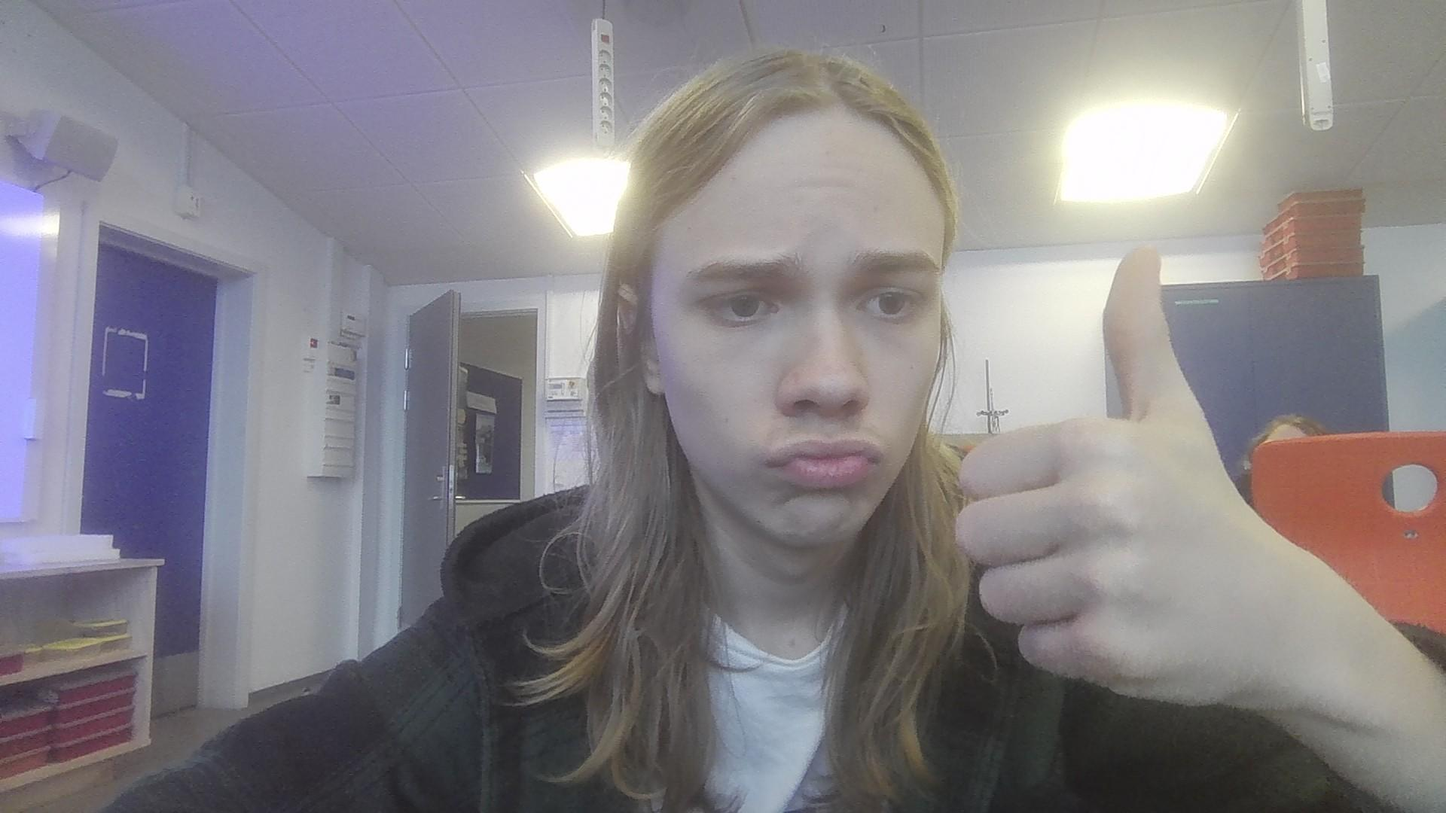thumbs up: (969, 240, 1295, 715)
